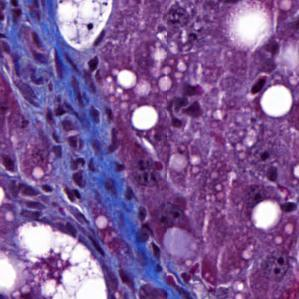ballooning: (4, 220, 108, 297), (54, 4, 115, 52), (219, 5, 275, 55)
